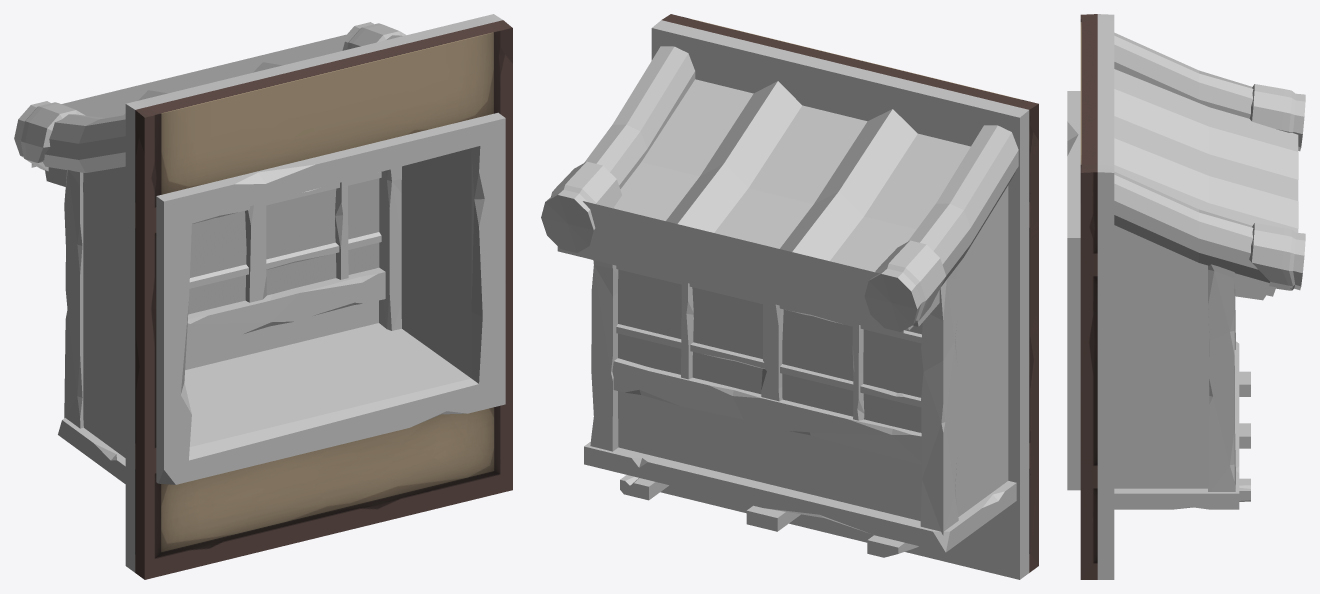
File: SM_Bld_Alcove_03.fbx
3 renders of one model, left to right at view 1: azimuth 30°, elevation 25°; view 2: azimuth 150°, elevation 25°; view 3: azimuth 270°, elevation 25°, orthographic. The views are drawn at different scales.
Visible parts, largest first — view 1: SM_Bld_Alcove_03; view 2: SM_Bld_Alcove_03; view 3: SM_Bld_Alcove_03.
Part boxes in pixels (x1=…): SM_Bld_Alcove_03: x1=14, y1=14, x2=512, y2=579; SM_Bld_Alcove_03: x1=541, y1=14, x2=1038, y2=579; SM_Bld_Alcove_03: x1=1067, y1=14, x2=1305, y2=579.
Size of the model in its own units: 257 by 301 by 159.
